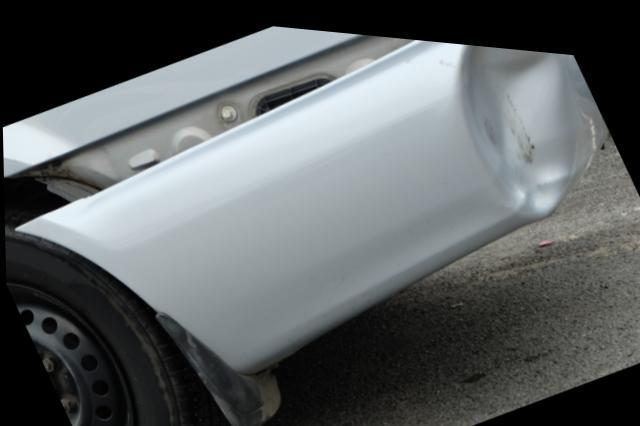dent: (460, 35, 573, 210)
dislocated part: (5, 28, 606, 367)
